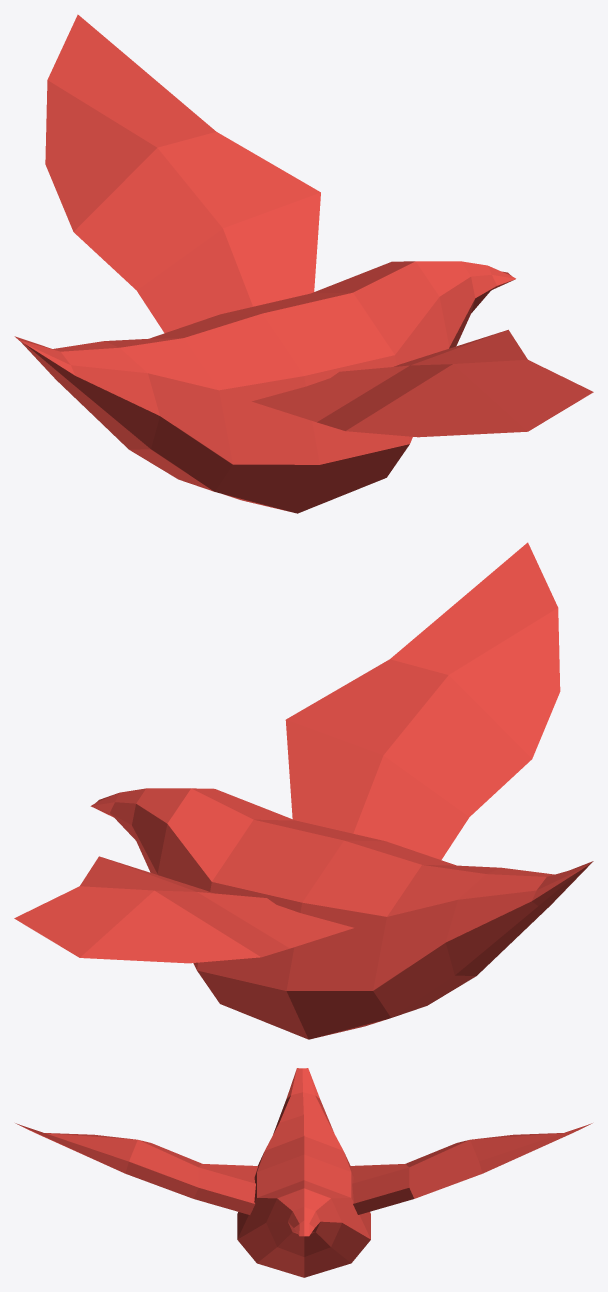
File: Bird3.fbx
3 views of the same model, one above another, from view 1: azimuth 30°, elevation 25°; view 2: azimuth 150°, elevation 25°; view 3: azimuth 270°, elevation 25° (orthographic). The views are drawn at different scales.
Visible parts, largest first — view 1: Flight; view 2: Flight; view 3: Flight.
Part boxes in pixels (x1,y1,x2,y2): Flight: (14,14,593,513); Flight: (14,542,593,1039); Flight: (15,1068,592,1277).
Bounding box in the file's own units: 981 × 519 × 1772.
